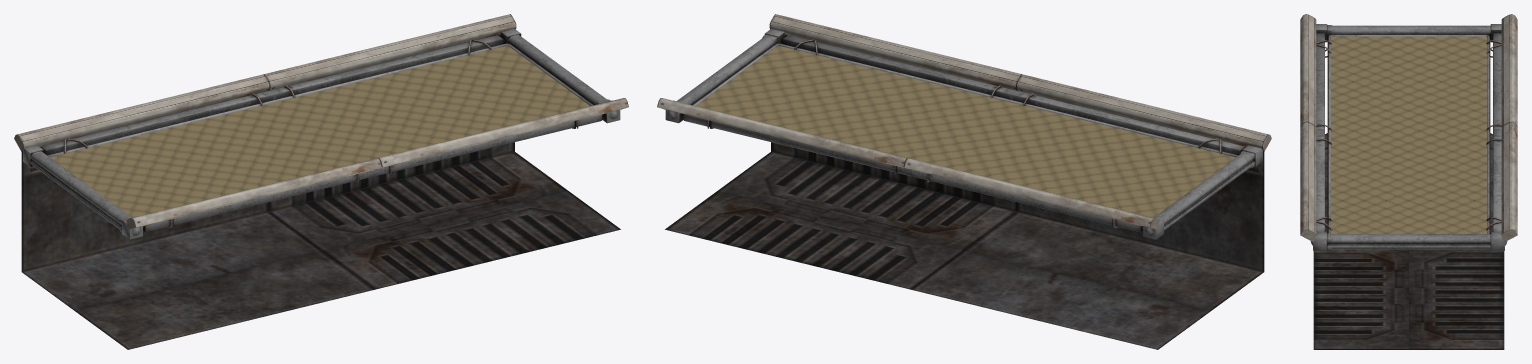
File: lab_pipes_box_fenced_straight_empty.dae
The picture shows the model from 3 angles, left to right: view 1: azimuth 30°, elevation 25°; view 2: azimuth 150°, elevation 25°; view 3: azimuth 270°, elevation 25°; orthographic projection. The views are drawn at different scales.
Visible parts, largest first — view 1: polySurface8, Geometry_mesh028Node, polySurface3, polySurface13; view 2: polySurface8, Geometry_mesh028Node, polySurface3, polySurface13; view 3: Geometry_mesh028Node, polySurface8, polySurface13, polySurface3.
Boxes of the visible parts, x1,y1,x2,y2 form: polySurface8: (21, 35, 620, 349); Geometry_mesh028Node: (50, 45, 589, 216); polySurface3: (14, 14, 628, 229); polySurface13: (23, 29, 620, 239); polySurface8: (665, 35, 1264, 349); Geometry_mesh028Node: (696, 45, 1235, 217); polySurface3: (657, 14, 1271, 229); polySurface13: (665, 29, 1262, 239); Geometry_mesh028Node: (1331, 36, 1487, 233); polySurface8: (1313, 134, 1504, 349); polySurface13: (1310, 24, 1507, 250); polySurface3: (1300, 14, 1517, 242).
Bounding box in the file's own units: 4 × 1.04 × 1.71.
